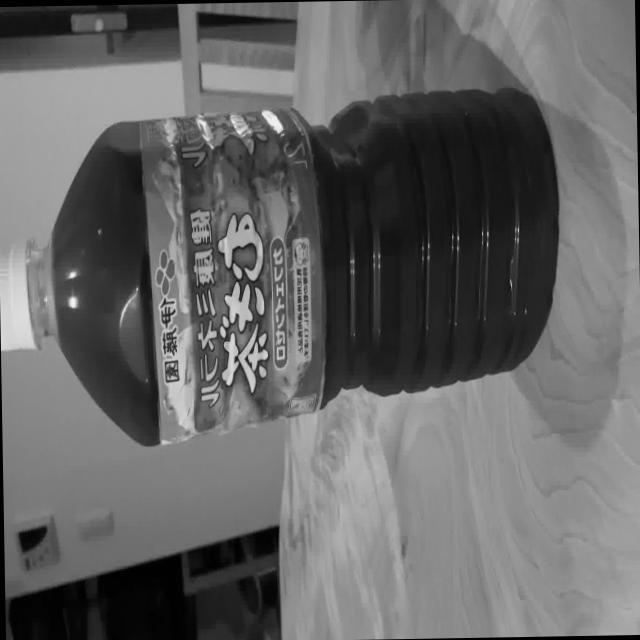good: (0, 70, 565, 451)
